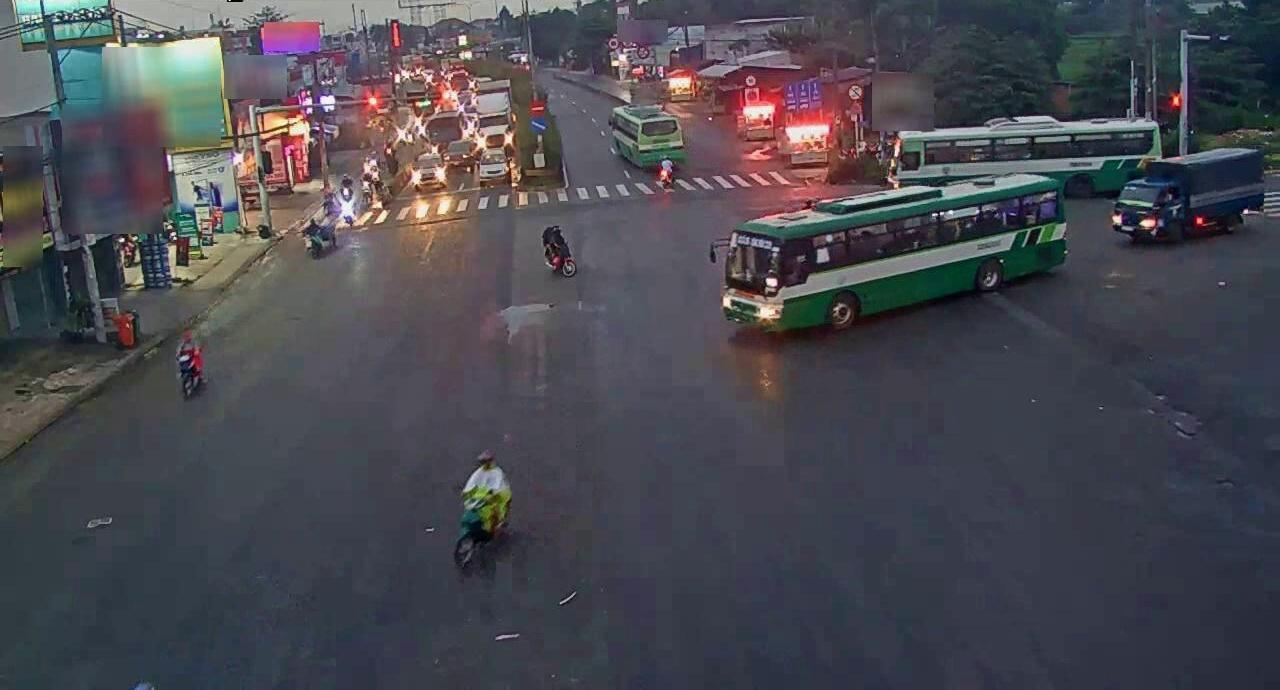xe buyt: (734, 179, 1074, 342)
xe may: (450, 448, 518, 569), (539, 220, 576, 280), (178, 331, 206, 395)
